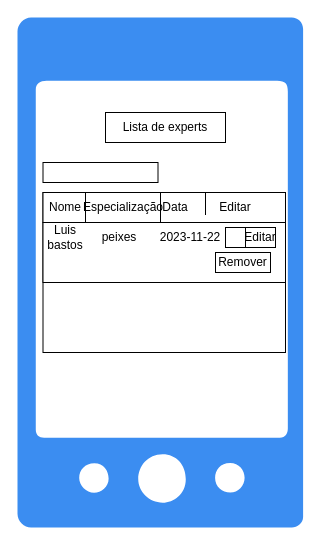
This 320x544 diagram has some shape labels left out. Here are the shapes that lost their labels. From the top down, the centre of each, then its label:
the point at 100,172: Adicionar expert
the point at 235,237: Ver
